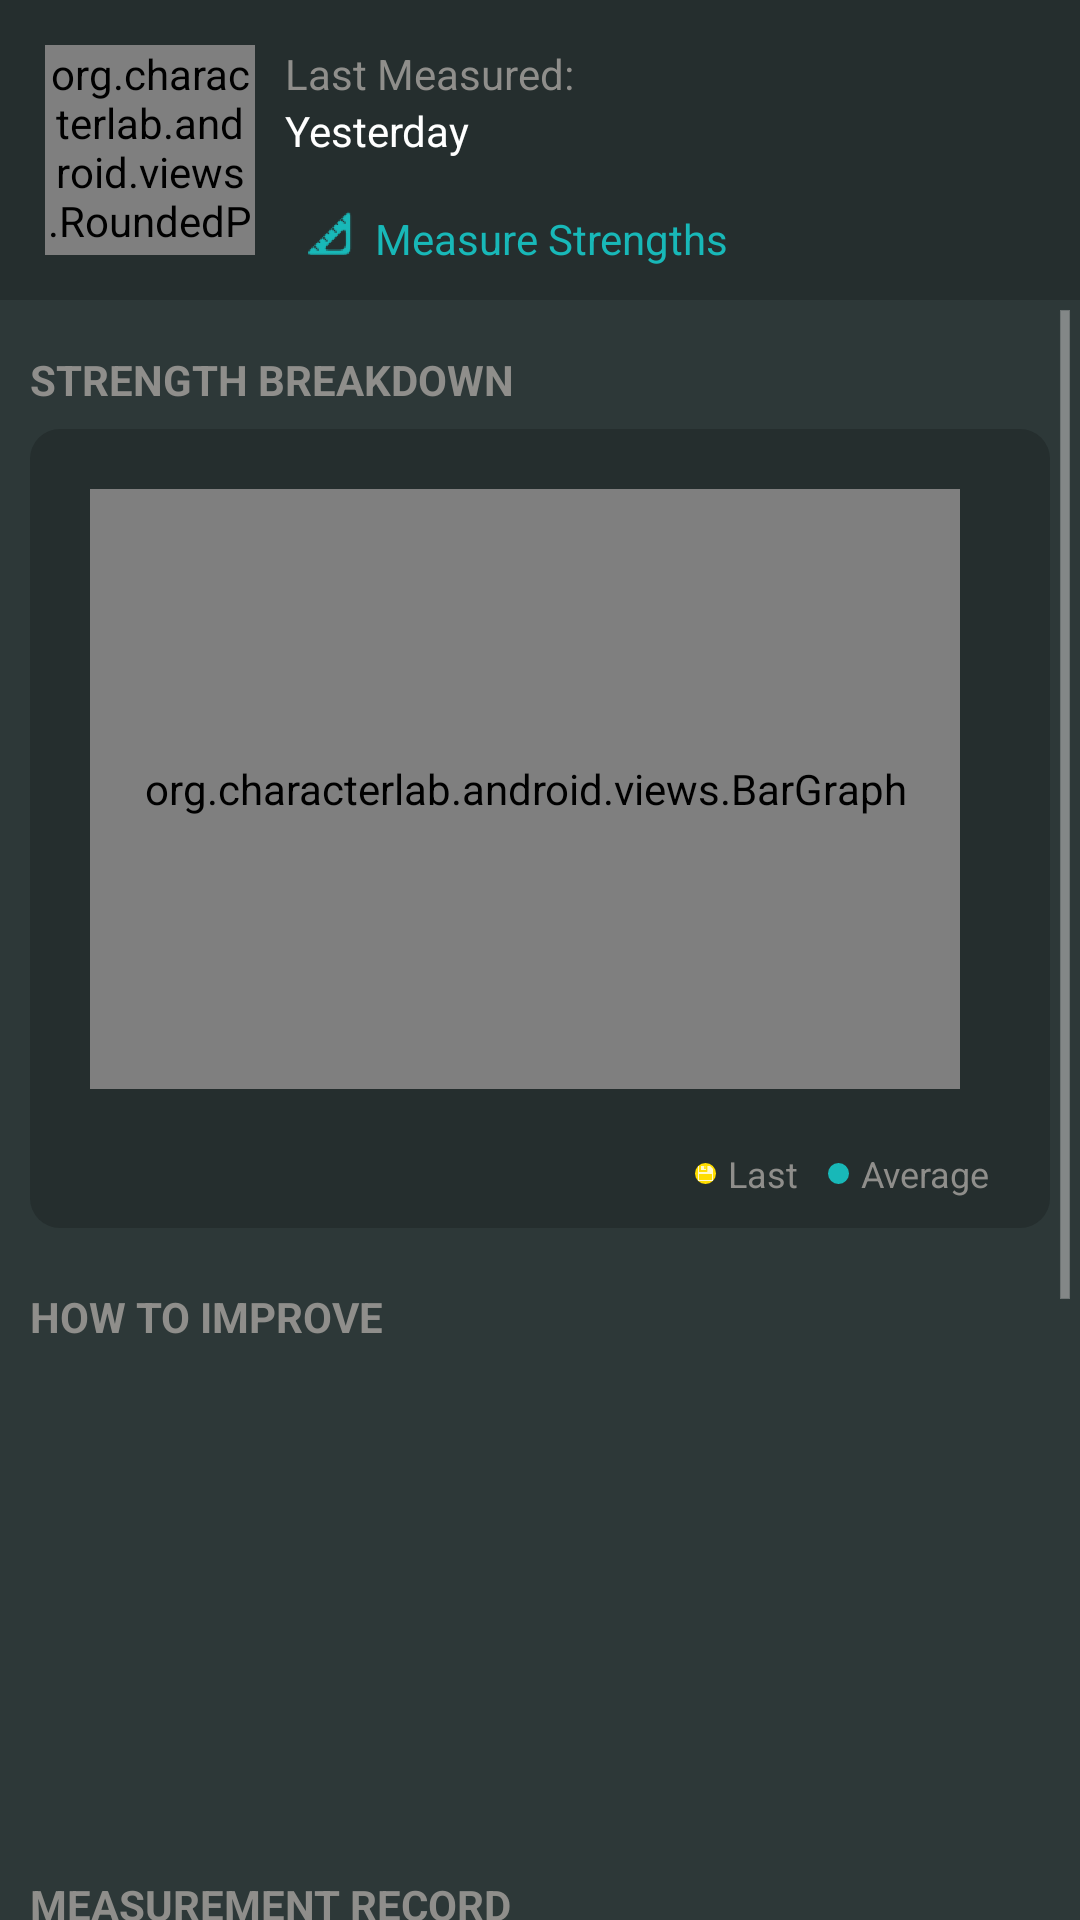

Point at icon controls on the screen. Image size 1080x1920, points as [x,y].
ruler: [329,233]
